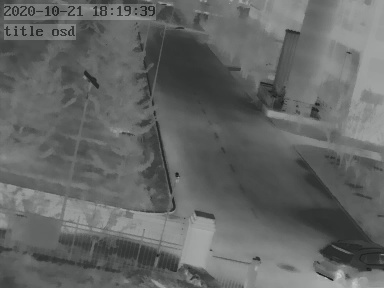vehicle: (313, 235, 384, 287)
